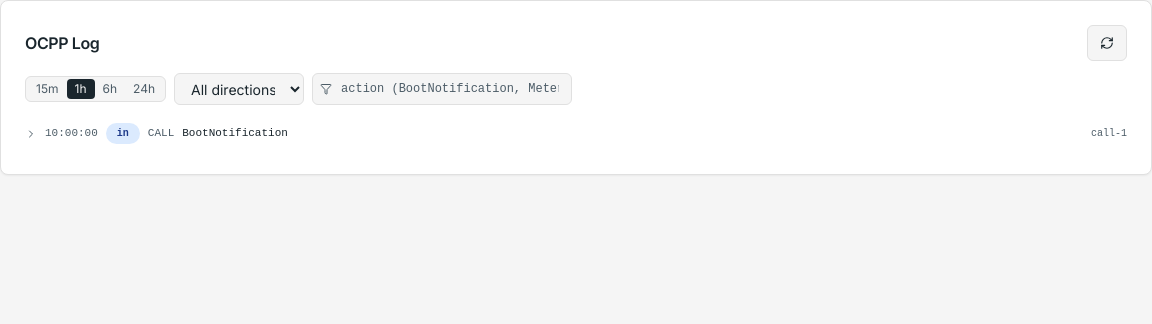
Test: OcppLogPanel — rendering › expands a frame to show the pretty-printed payload
Click the text "BootNotification".
click(235, 133)  # box [182, 127, 288, 139]
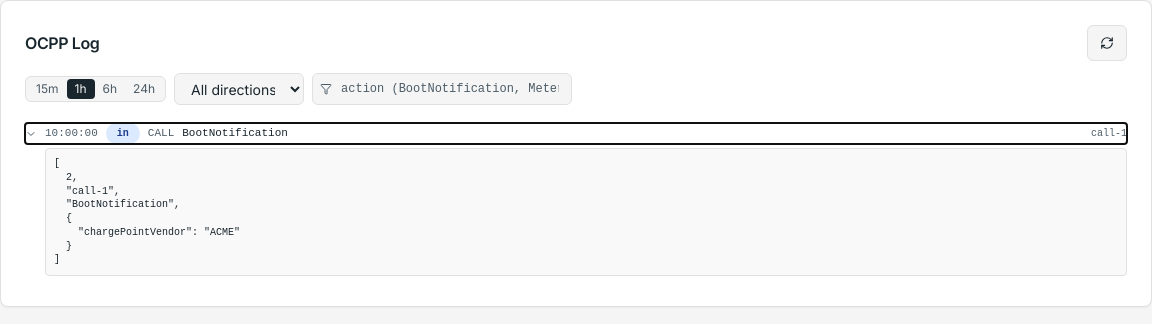
Check: the text "chargePointVendor" is shown, box [54, 158, 240, 265]
